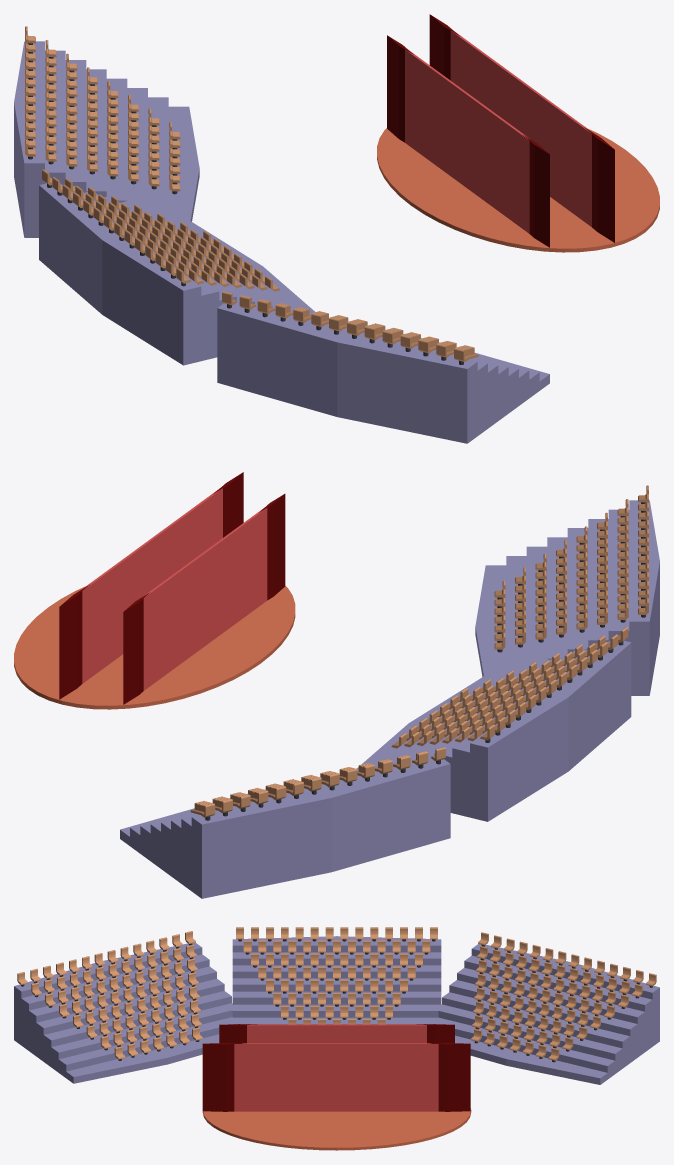
The model's file is Working on Auditorium.obj.
3 views of the same model, one above another, from view 1: azimuth 30°, elevation 25°; view 2: azimuth 150°, elevation 25°; view 3: azimuth 270°, elevation 25° (orthographic). The views are drawn at different scales.
Visible parts, largest first — view 1: mergedBlocks; view 2: mergedBlocks; view 3: mergedBlocks.
Boxes of the visible parts, x1,y1,x2,y2 form: mergedBlocks: (14, 14, 659, 443); mergedBlocks: (14, 472, 659, 898); mergedBlocks: (14, 927, 659, 1150).
Size of the model in its own units: 29.3 by 7 by 43.32.
